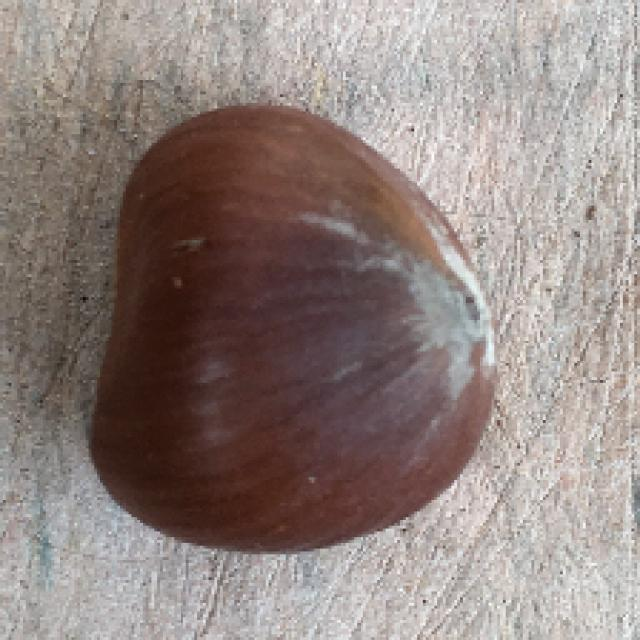damagedHazelnut: (82, 102, 503, 553)
